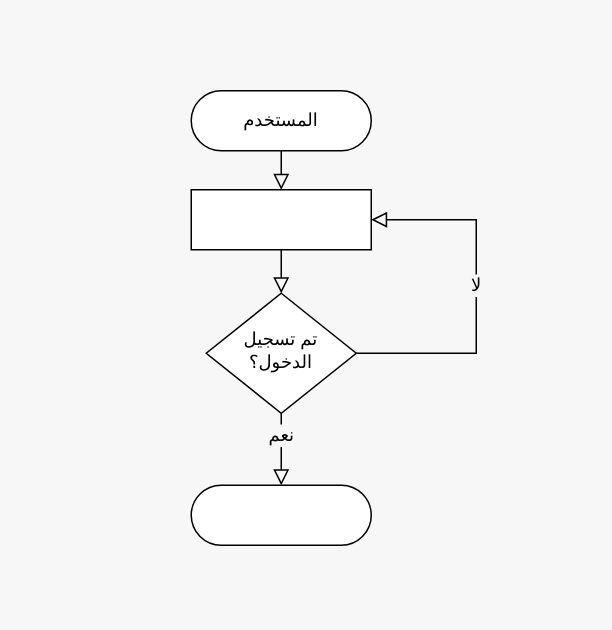
Some shapes in this 612 by 630 pixel diagram are drawn without their labels. Here are the shapes that lost their labels. From the top down, the centre of each, then its label:
At point (280, 219): "بوابة".
At point (280, 514): "موقعك/تطبيقك".
